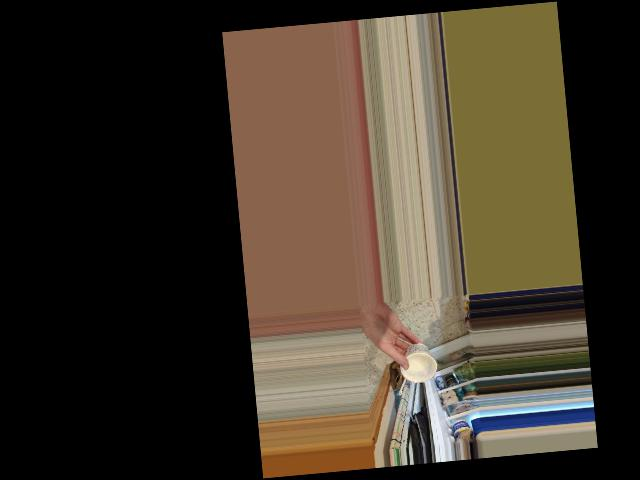cotage: (403, 340, 433, 388)
